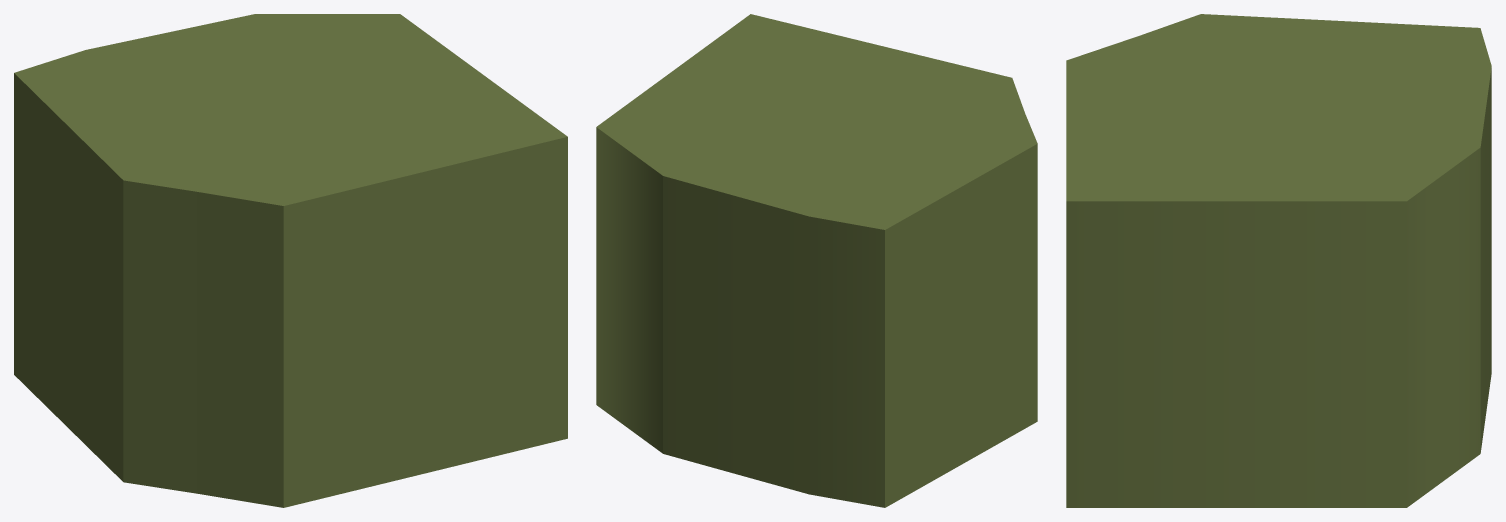
The model's file is ground_14.fbx.
The picture shows the model from 3 angles, left to right: view 1: azimuth 30°, elevation 25°; view 2: azimuth 150°, elevation 25°; view 3: azimuth 270°, elevation 25°; orthographic projection. The views are drawn at different scales.
Visible parts, largest first — view 1: ground_14; view 2: ground_14; view 3: ground_14.
Part boxes in pixels (box(x1,y1,x2,y2)): ground_14: box(14, 14, 567, 507); ground_14: box(596, 14, 1037, 507); ground_14: box(1066, 14, 1491, 507).
Bounding box in the file's own units: 6.62 × 5.05 × 6.35.
